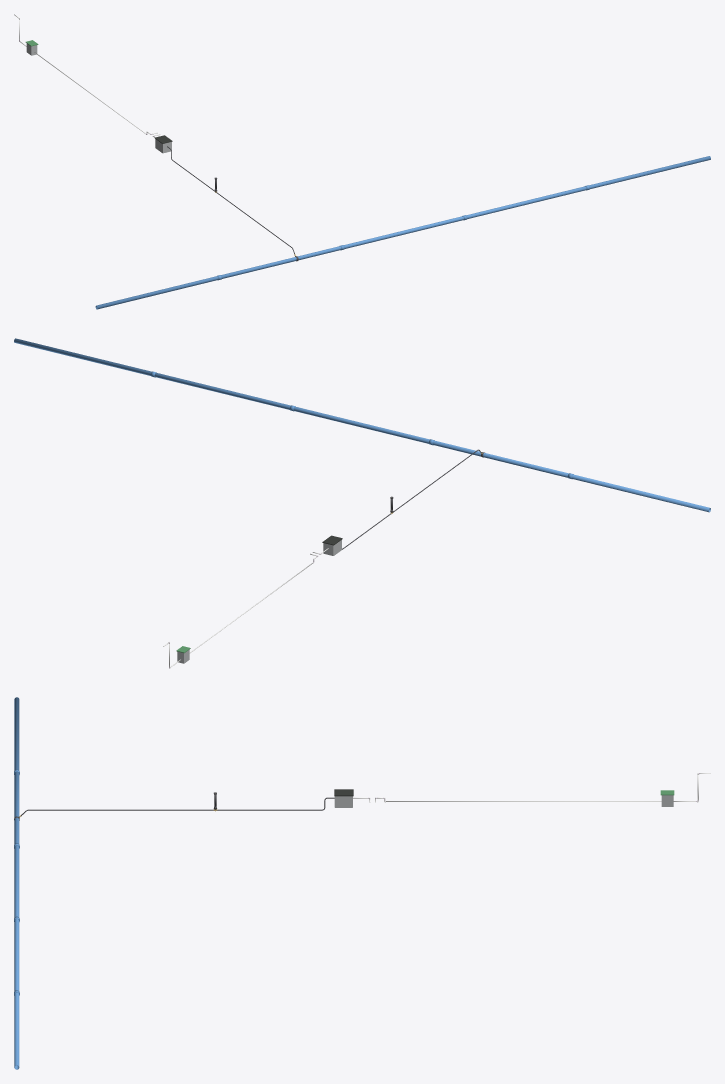
Rendered from pipes_supply__water-city_filter.glb.
The picture shows the model from 3 angles, top to bottom: view 1: azimuth 30°, elevation 25°; view 2: azimuth 150°, elevation 25°; view 3: azimuth 270°, elevation 25°; orthographic projection. The views are drawn at different scales.
Parts seen in each view (by area): view 1: city_water_main; view 2: city_water_main; view 3: city_water_main.
Part boxes in pixels (x1,y1,x2,y2): city_water_main: [95, 156, 710, 309]; city_water_main: [14, 338, 710, 512]; city_water_main: [14, 697, 19, 1069].
Size of the model in its own units: 30.48 by 1.89 by 24.4.
